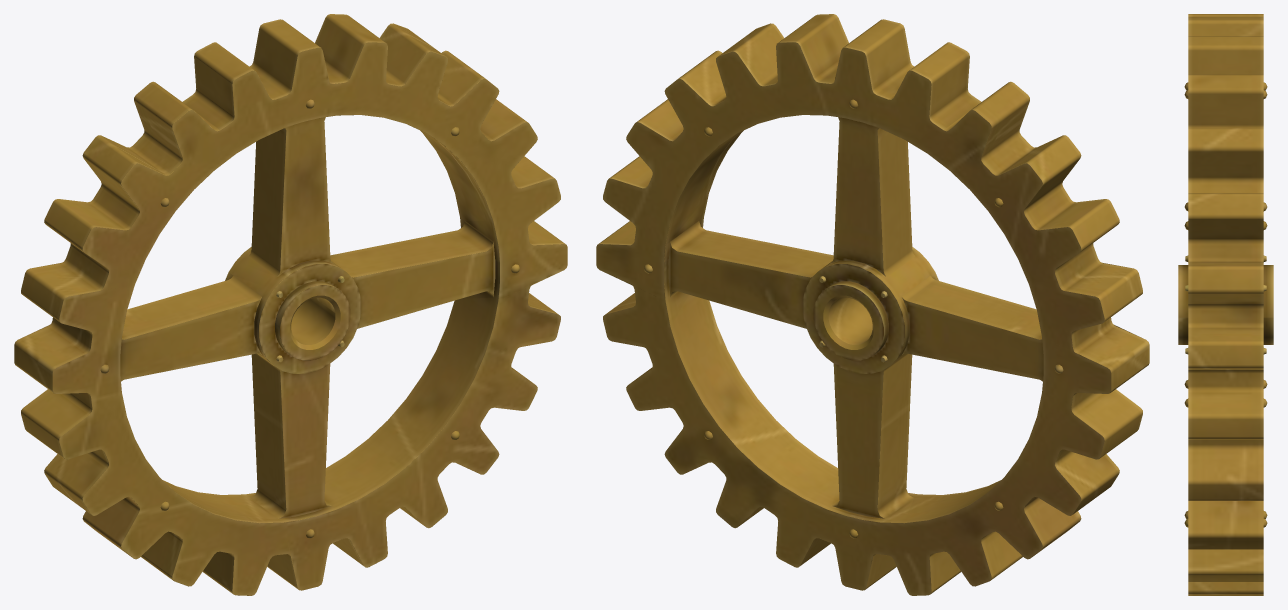
The model's file is gear_spur_24_brass.glb.
3 views of the same model, side by side, from view 1: azimuth 30°, elevation 25°; view 2: azimuth 150°, elevation 25°; view 3: azimuth 270°, elevation 25° (orthographic). The views are drawn at different scales.
Parts seen in each view (by area): view 1: GearSpur24_Brass; view 2: GearSpur24_Brass; view 3: GearSpur24_Brass.
Part boxes in pixels (x1,y1,x2,y2): GearSpur24_Brass: (14,14,567,595); GearSpur24_Brass: (596,14,1149,595); GearSpur24_Brass: (1178,14,1273,595).
Size of the model in its own units: 0.0929 by 0.0929 by 0.0152.
1 material, 1 textured.
